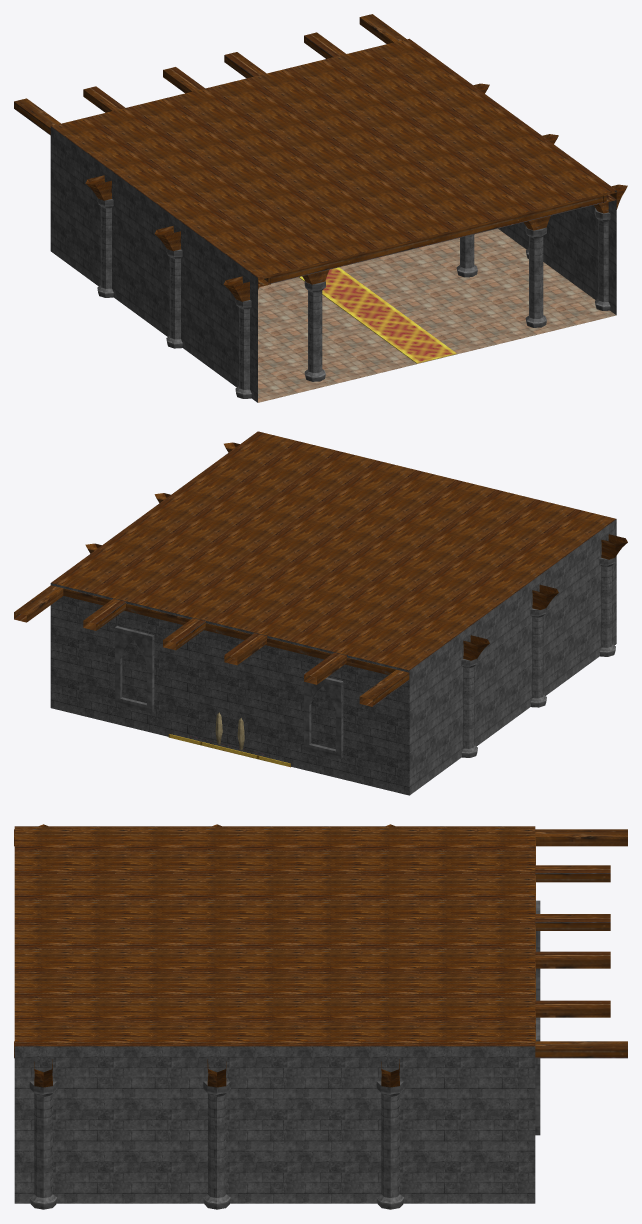
The model's file is throne_room.fbx.
The picture shows the model from 3 angles, top to bottom: view 1: azimuth 30°, elevation 25°; view 2: azimuth 150°, elevation 25°; view 3: azimuth 270°, elevation 25°; orthographic projection. The views are drawn at different scales.
Visible parts, largest first — view 1: ceiling, floor, wall_stone, column, ceiling_desks, carpet_curtain, column_wood_part; view 2: ceiling, wall_stone, ceiling_desks, column, window, column_wood_part, throne_base; view 3: ceiling, wall_stone, ceiling_desks, column, column_wood_part, window.
Boxes of the visible parts, x1=… form: ceiling: x1=51, y1=38, x2=615, y2=277; floor: x1=258, y1=228, x2=616, y2=402; wall_stone: x1=50, y1=126, x2=616, y2=402; column: x1=97, y1=198, x2=610, y2=398; ceiling_desks: x1=14, y1=14, x2=616, y2=287; carpet_curtain: x1=299, y1=267, x2=456, y2=363; column_wood_part: x1=85, y1=83, x2=627, y2=301; ceiling: x1=51, y1=431, x2=615, y2=670; wall_stone: x1=50, y1=519, x2=616, y2=795; ceiling_desks: x1=14, y1=585, x2=409, y2=706; column: x1=461, y1=557, x2=615, y2=757; window: x1=115, y1=626, x2=343, y2=758; column_wood_part: x1=85, y1=442, x2=627, y2=660; throne_base: x1=168, y1=734, x2=290, y2=767; ceiling: x1=14, y1=826, x2=535, y2=1046; wall_stone: x1=14, y1=1046, x2=535, y2=1203; ceiling_desks: x1=14, y1=829, x2=627, y2=1058; column: x1=29, y1=1081, x2=404, y2=1209; column_wood_part: x1=34, y1=824, x2=399, y2=1087; window: x1=535, y1=900, x2=540, y2=1135.
Bounding box in the file's own units: 2030 × 603 × 2123.
